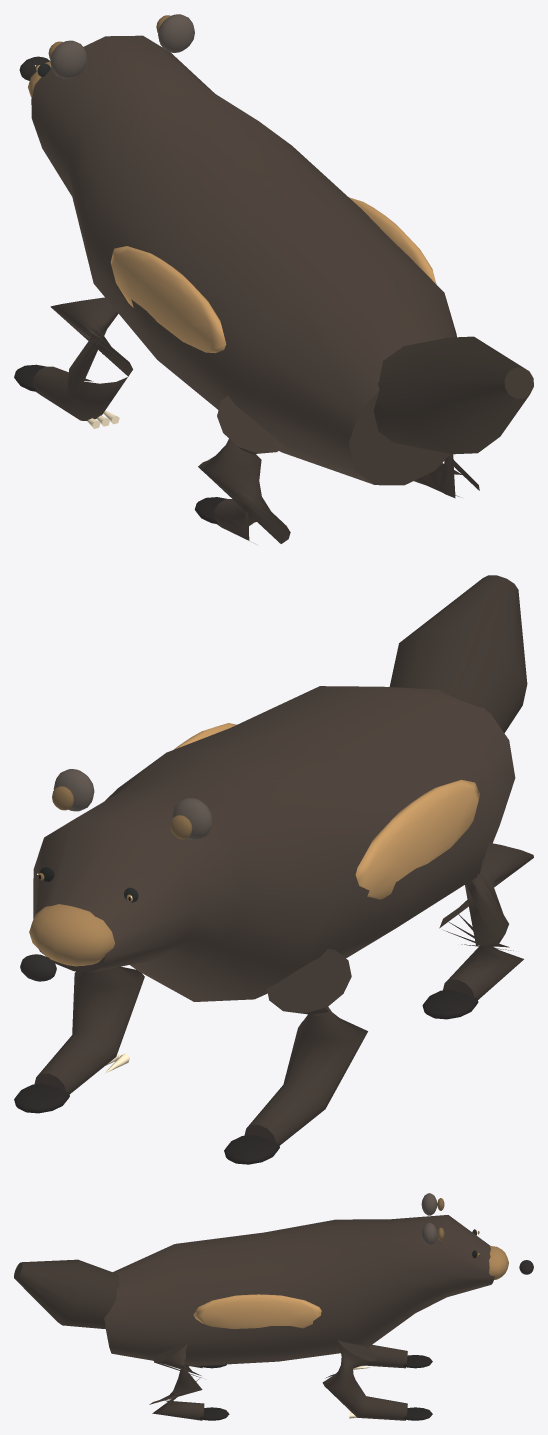
Rendered from wolverine_hero.glb.
The picture shows the model from 3 angles, top to bottom: view 1: azimuth 30°, elevation 25°; view 2: azimuth 150°, elevation 25°; view 3: azimuth 270°, elevation 25°; orthographic projection. The views are drawn at different scales.
Parts seen in each view (by area): view 1: WolverineOrganicBody, Tail, Leg_LH, SideBandDetail_L, Leg_LF, SideBandDetail_R, RoundEar, RoundEar2, Leg_RH; view 2: WolverineOrganicBody, Tail, Leg_LF, SideBandDetail_L, Leg_RF, Leg_LH, Muzzle, Paw_LF, Paw_LH, Paw_RF, RoundEar, RoundEar2 (+1 smaller); view 3: WolverineOrganicBody, Tail, SideBandDetail_R, Leg_RF, Leg_RH, Leg_LF, Muzzle, Paw_RF, Paw_RH, Paw_LF, RoundEar, RoundEar2.
Boxes of the visible parts, <box> form: WolverineOrganicBody: <box>31,35,456,485</box>; Tail: <box>373,336,533,454</box>; Leg_LH: <box>198,396,290,543</box>; SideBandDetail_L: <box>110,246,226,353</box>; Leg_LF: <box>32,297,132,420</box>; SideBandDetail_R: <box>349,197,436,284</box>; RoundEar: <box>50,40,87,79</box>; RoundEar2: <box>158,14,194,52</box>; Leg_RH: <box>414,454,479,498</box>; WolverineOrganicBody: <box>33,686,515,1001</box>; Tail: <box>389,575,527,732</box>; Leg_LF: <box>244,949,367,1145</box>; SideBandDetail_L: <box>355,780,479,899</box>; Leg_RF: <box>34,966,144,1094</box>; Leg_LH: <box>439,842,533,999</box>; Muzzle: <box>29,904,114,966</box>; Paw_LF: <box>224,1135,279,1164</box>; Paw_LH: <box>422,990,478,1019</box>; Paw_RF: <box>14,1084,69,1113</box>; RoundEar: <box>172,798,212,840</box>; RoundEar2: <box>53,769,94,811</box>; WolverineOrganicBody: <box>104,1215,494,1366</box>; Tail: <box>14,1259,119,1329</box>; SideBandDetail_R: <box>193,1294,321,1328</box>; Leg_RF: <box>322,1340,407,1420</box>; Leg_RH: <box>149,1342,204,1420</box>; Leg_LF: <box>363,1344,407,1368</box>; Muzzle: <box>489,1246,508,1279</box>; Paw_RF: <box>403,1407,432,1420</box>; Paw_RH: <box>200,1407,229,1420</box>; Paw_LF: <box>403,1355,432,1368</box>; RoundEar: <box>421,1193,437,1215</box>; RoundEar2: <box>421,1222,437,1245</box>.
Size of the model in its own units: 1.43 by 1.69 by 4.33.
